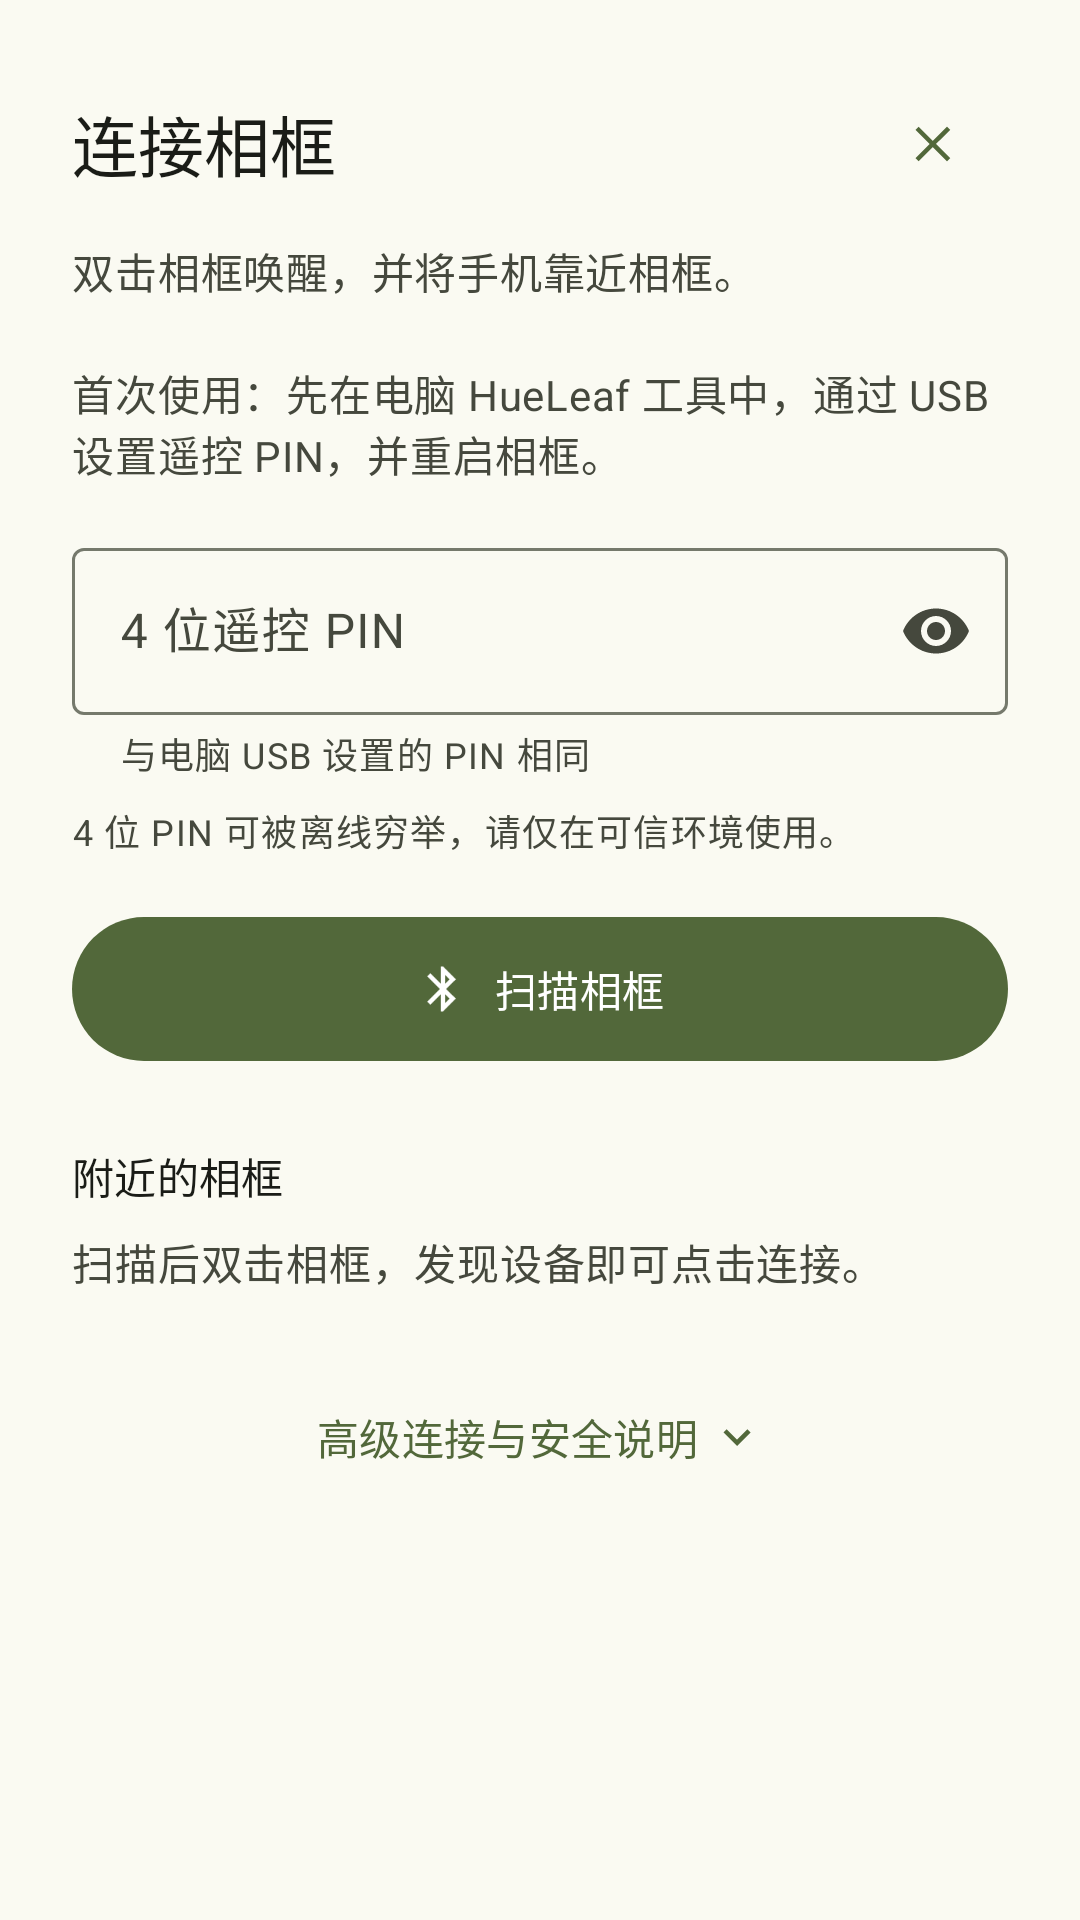

Icon click points for this 1080 × 1920 phone screenshot, format (x,y):
关闭: (932,144)
